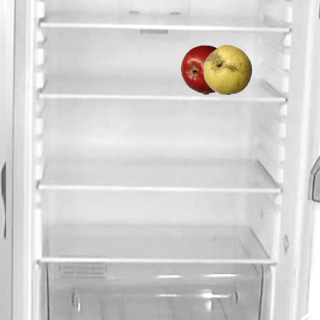Apple Braeburn: (180, 44, 230, 94)
Apple Golden 1: (202, 44, 252, 94)
